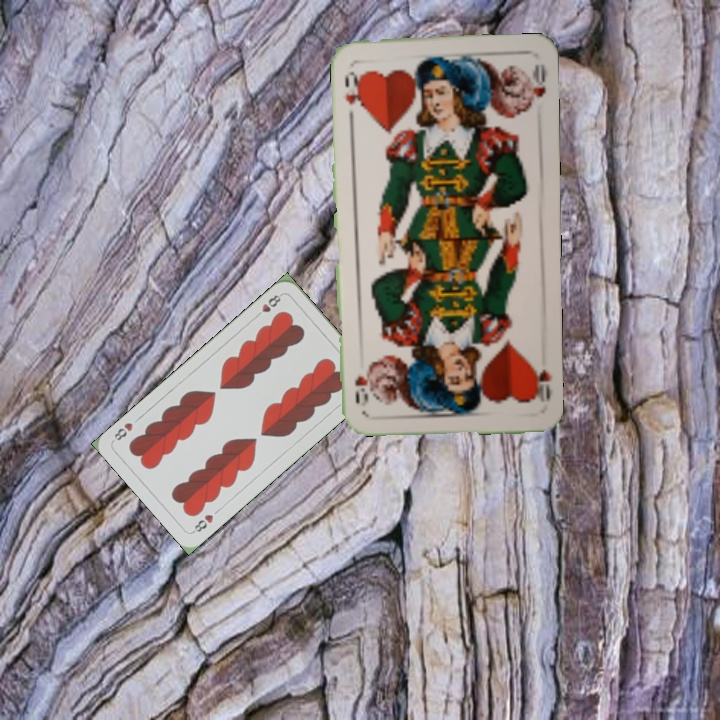H8: (251, 290, 285, 321), (189, 510, 216, 536)
HO: (527, 356, 554, 404), (340, 67, 365, 110)
